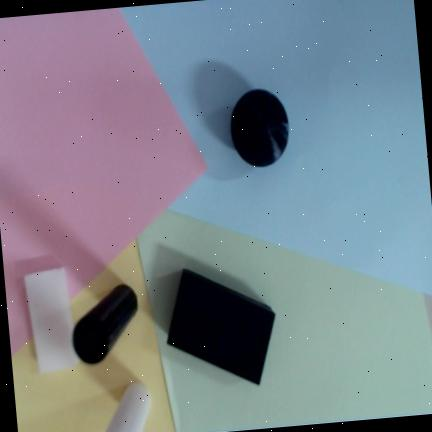Cilindro: (73, 284, 138, 363), (106, 382, 151, 432)
Esfera: (231, 90, 289, 166)
Paralelepipedo: (167, 269, 275, 384), (25, 267, 78, 371)
